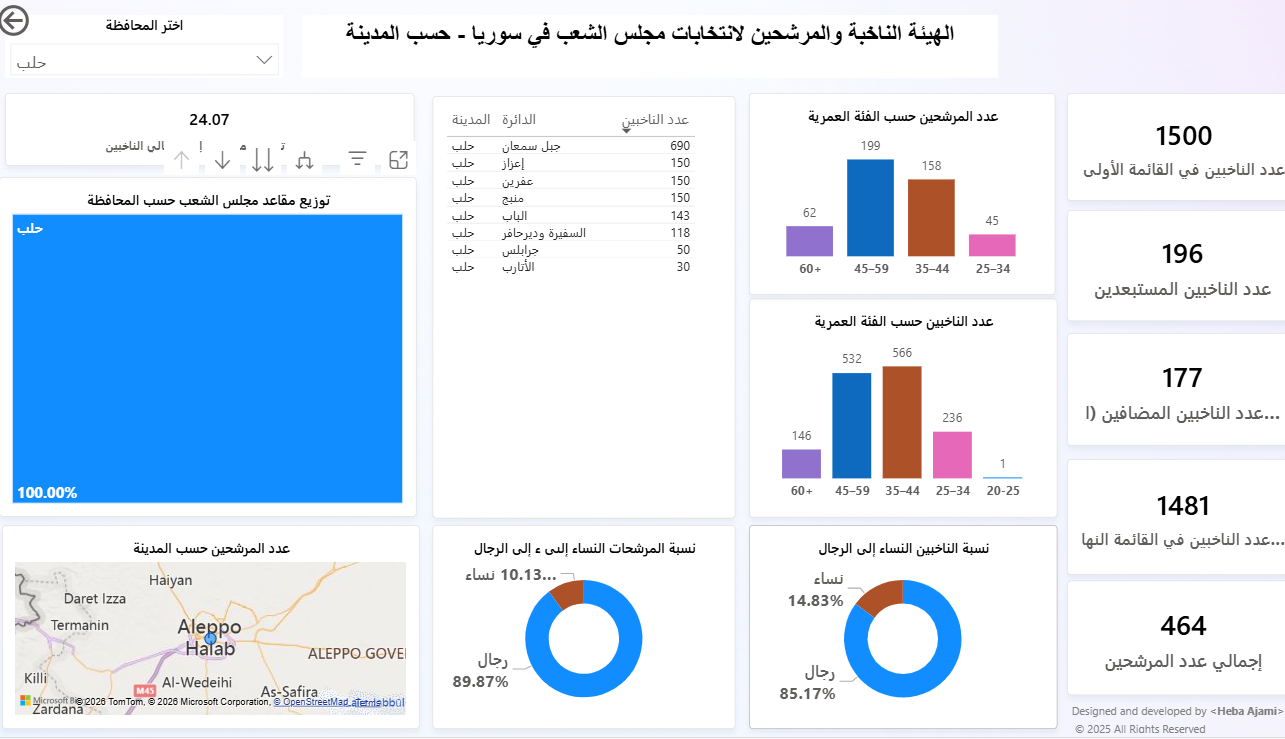

The dashboard page shown, as its layout file describes it:
{"tool":"powerbi","page":{"name":"Page 1","canvas":[1280,720],"ordinal":0},"visuals":[{"type":"card","title":"إجمالي عدد الناخبين","fields":{"Values":["Sum(Sheet1.in_first)"]},"box":[1049.3,90.7,229.9,105.2],"z":0},{"type":"textbox","box":[301.2,14.6,680.1,61.5],"z":1000},{"type":"slicer","title":"اختر المحافظة","fields":{"Values":["Sheet1.city","Sheet1.district"]},"box":[11.3,14.6,272,61.5],"z":2000},{"type":"card","fields":{"Values":["Sheet1.Total Candidates"]},"box":[1049.3,566.7,228.3,111.7],"z":3000},{"type":"card","fields":{"Values":["Sheet1.Removed from Final"]},"box":[1049.3,205.6,226.7,108.5],"z":4000},{"type":"clusteredColumnChart","title":"عدد الناخبين حسب الفئة العمرية","fields":{"Category":["Sheet1.Age Group"],"Y":["Sum(Sheet1.in_final)"]},"box":[738.4,291.5,301.2,213.7],"z":5000},{"type":"tableEx","fields":{"Values":["Sheet1.city","Sheet1.district","Sum(Sheet1.in_final)"]},"box":[429.1,93.9,296.3,412.9],"z":6000},{"type":"donutChart","title":"نسبة الناخبين النساء إلى الرجال","fields":{"Category":["Sheet1.Column9"],"Y":["Sheet1.Total Voters"]},"box":[738.4,513.3,301.2,199.2],"z":7000},{"type":"map","title":"عدد المرشحين حسب المدينة","fields":{"Category":["Sheet1.city"],"Size":["Sheet1.Total Candidates"]},"box":[8.1,513.3,408,199.2],"z":8000},{"type":"card","fields":{"Values":["Sheet1.Added to Final"]},"box":[1049.3,325.5,226.7,110.1],"z":9000},{"type":"card","fields":{"Values":["Sheet1.Voters in Final List"]},"box":[1049.3,448.5,228.3,113.3],"z":10000},{"type":"clusteredColumnChart","title":"عدد المرشحين حسب الفئة العمرية","fields":{"Category":["Sheet1.Age Group"],"Y":["Sheet1.Total Candidates"]},"box":[738.4,90.7,299.6,197.5],"z":11000},{"type":"donutChart","title":"نسبة المرشحات النساء إلىى ء إلى الرجال","fields":{"Category":["Sheet1.Column9"],"Y":["Sheet1.Total Candidates"]},"box":[429.1,513.3,296.3,199.2],"z":12000},{"type":"card","fields":{"Values":["Sheet1.Candidate Representation %"]},"box":[11.3,90.7,399.9,71.2],"z":13000},{"type":"actionButton","box":[0,0,100,40],"z":14000},{"type":"textbox","box":[1049.3,678.5,229.9,42.1],"z":15000},{"type":"treemap","title":"توزيع مقاعد مجلس الشعب حسب المحافظة","fields":{"Group":["ورقة1.المدينة","ورقة1.الدائرة الانتخابية"],"Values":["Sum(ورقة1.عدد المقاعد )"]},"box":[6.5,173.3,408,331.9],"z":16000}]}

Visuals, with their boxes in screenshot pixels (x1, y1, x2, y2), scaled from the page's 1280x720 canvas onto the 1285x739 screenshot:
"إجمالي عدد الناخبين" card: bbox(1053, 93, 1284, 201)
textbox: bbox(302, 15, 985, 78)
"اختر المحافظة" slicer: bbox(11, 15, 284, 78)
card - Sheet1.Total Candidates: bbox(1053, 582, 1283, 696)
card - Sheet1.Removed from Final: bbox(1053, 211, 1281, 322)
"عدد الناخبين حسب الفئة العمرية" clusteredColumnChart: bbox(741, 299, 1044, 519)
tableEx - Sheet1.city x Sheet1.district: bbox(431, 96, 728, 520)
"نسبة الناخبين النساء إلى الرجال" donutChart: bbox(741, 527, 1044, 731)
"عدد المرشحين حسب المدينة" map: bbox(8, 527, 418, 731)
card - Sheet1.Added to Final: bbox(1053, 334, 1281, 447)
card - Sheet1.Voters in Final List: bbox(1053, 460, 1283, 577)
"عدد المرشحين حسب الفئة العمرية" clusteredColumnChart: bbox(741, 93, 1042, 296)
"نسبة المرشحات النساء إلىى ء إلى الرجال" donutChart: bbox(431, 527, 728, 731)
card - Sheet1.Candidate Representation %: bbox(11, 93, 413, 166)
actionButton: bbox(0, 0, 100, 41)
textbox: bbox(1053, 696, 1284, 738)
"توزيع مقاعد مجلس الشعب حسب المحافظة" treemap: bbox(7, 178, 416, 519)
